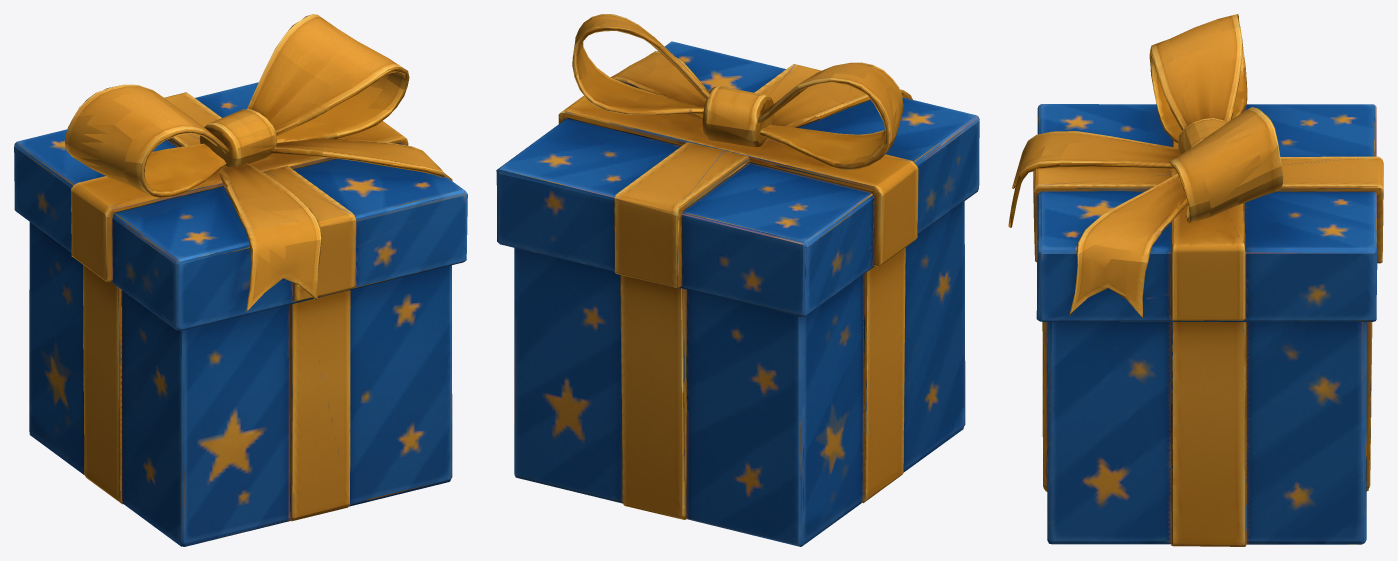
Rendered from starlight_gift.glb.
3 renders of one model, left to right at view 1: azimuth 30°, elevation 25°; view 2: azimuth 150°, elevation 25°; view 3: azimuth 270°, elevation 25°, orthographic. The views are drawn at different scales.
Parts seen in each view (by area): view 1: mesh_node; view 2: mesh_node; view 3: mesh_node.
Part boxes in pixels (x1,y1,x2,y2): mesh_node: (14, 14, 467, 546); mesh_node: (496, 14, 979, 546); mesh_node: (1008, 14, 1383, 546).
Size of the model in its own units: 0.8555 by 1 by 0.8262.
1 material, 1 textured.
